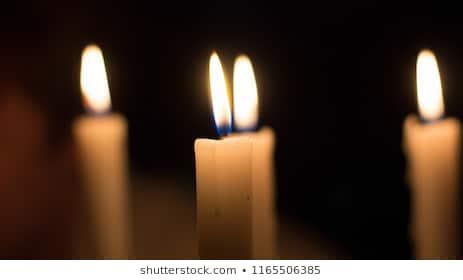fire: (219, 50, 260, 131), (76, 40, 113, 112), (412, 46, 446, 121)
